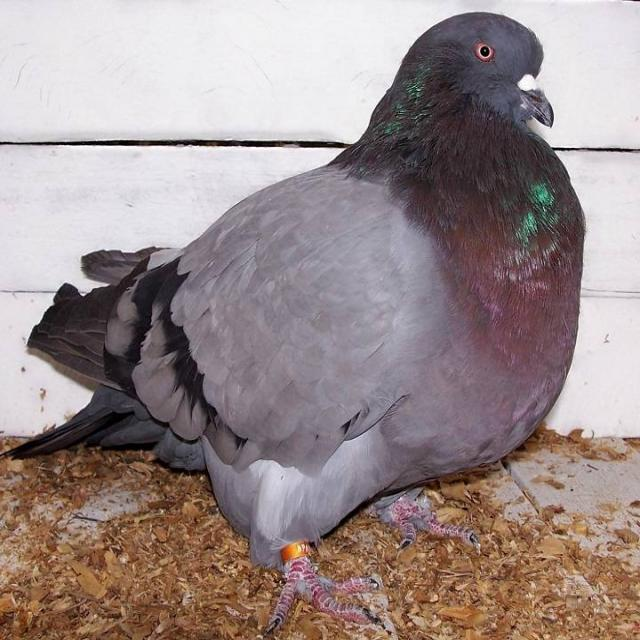bird: (4, 3, 594, 640)
